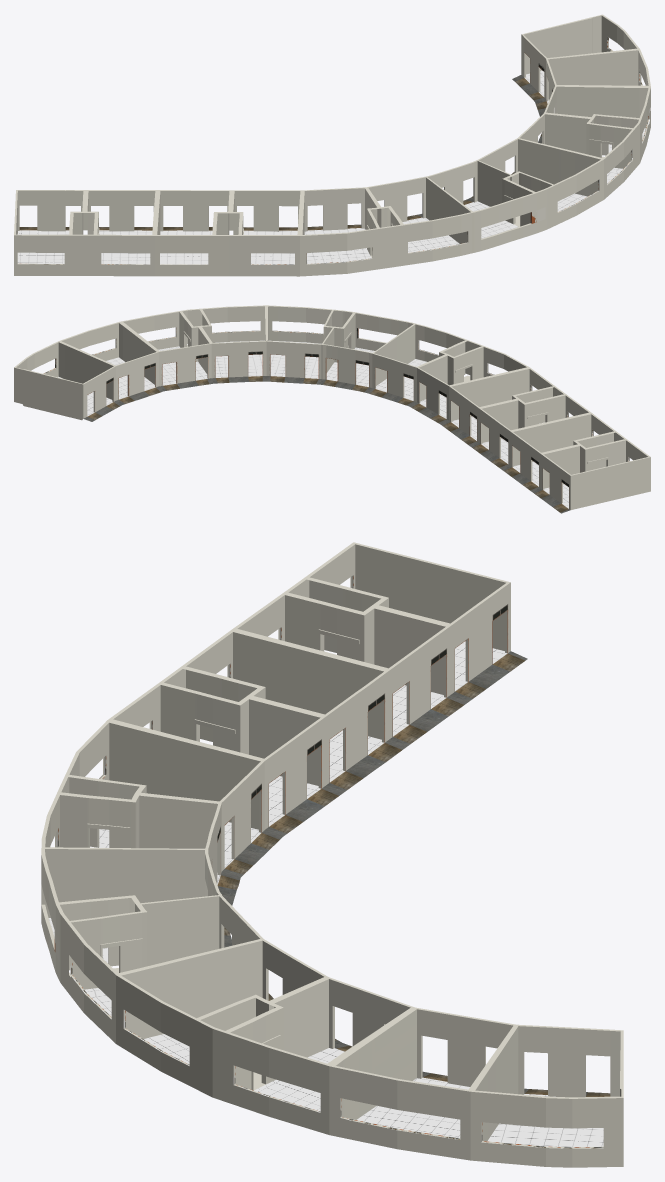
The model's file is CLASSROOM ROOMS+FLOOR v2.fbx.
The picture shows the model from 3 angles, top to bottom: view 1: azimuth 30°, elevation 25°; view 2: azimuth 150°, elevation 25°; view 3: azimuth 270°, elevation 25°; orthographic projection. The views are drawn at different scales.
Visible parts, largest first — view 1: classroom_3_4, classroom_5_6, classroom_7_8, classroom_9_10, classroom_1_2, life_skills, minimart, classroom_5_6_floor, classroom_7_8_floor, classroom_9_10_floor, classroom_3_4_floor, life_skills_floor; view 2: classroom_9_10, classroom_3_4, classroom_1_2, classroom_7_8, classroom_5_6, life_skills, minimart, classroom_3_4_floor, classroom_1_2_floor, classroom_5_6_floor, classroom_7_8_floor, classroom_9_10_floor (+2 smaller); view 3: classroom_1_2, classroom_7_8, classroom_9_10, classroom_3_4, classroom_5_6, minimart, life_skills, classroom_7_8_floor, classroom_9_10_floor, life_skills_floor, classroom_1_2_floor, minimart_floor (+1 smaller).
Part boxes in pixels (<box>): classroom_3_4: <box>425,138,603,253</box>; classroom_5_6: <box>300,176,471,276</box>; classroom_7_8: <box>155,190,302,276</box>; classroom_9_10: <box>14,190,158,276</box>; classroom_1_2: <box>517,85,650,199</box>; life_skills: <box>521,14,639,98</box>; minimart: <box>546,49,650,127</box>; classroom_5_6_floor: <box>304,214,459,263</box>; classroom_7_8_floor: <box>160,227,297,264</box>; classroom_9_10_floor: <box>17,227,152,264</box>; classroom_3_4_floor: <box>421,193,587,238</box>; life_skills_floor: <box>512,70,545,102</box>; classroom_9_10: <box>510,413,650,510</box>; classroom_3_4: <box>266,305,415,387</box>; classroom_1_2: <box>120,305,266,386</box>; classroom_7_8: <box>449,367,591,465</box>; classroom_5_6: <box>373,324,529,420</box>; life_skills: <box>14,341,115,420</box>; minimart: <box>59,321,158,400</box>; classroom_3_4_floor: <box>266,340,374,392</box>; classroom_1_2_floor: <box>158,340,266,391</box>; classroom_5_6_floor: <box>367,359,470,423</box>; classroom_7_8_floor: <box>440,416,509,469</box>; classroom_9_10_floor: <box>501,461,569,513</box>; classroom_1_2: <box>116,939,414,1133</box>; classroom_7_8: <box>108,629,388,829</box>; classroom_9_10: <box>232,542,510,739</box>; classroom_3_4: <box>41,847,263,1043</box>; classroom_5_6: <box>41,720,264,884</box>; minimart: <box>325,1007,516,1160</box>; life_skills: <box>470,1024,623,1167</box>; classroom_7_8_floor: <box>265,730,406,836</box>; classroom_9_10_floor: <box>389,641,527,746</box>; life_skills_floor: <box>487,1088,610,1147</box>; classroom_1_2_floor: <box>143,1034,423,1111</box>; minimart_floor: <box>357,1072,469,1138</box>.
Size of the model in its own units: 519 by 31.4 by 229.
Materials: 1 (1 with a texture image).
